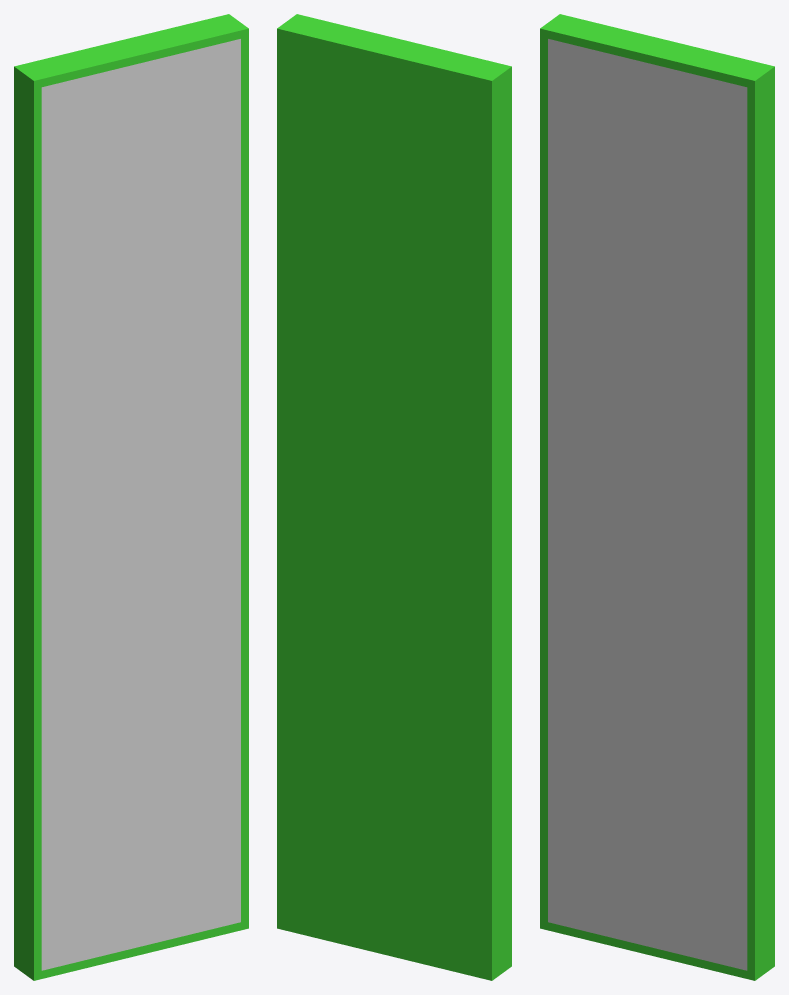
Rendered from Interior_Deco_05.fbx.
The picture shows the model from 3 angles, left to right: view 1: azimuth 30°, elevation 25°; view 2: azimuth 150°, elevation 25°; view 3: azimuth 330°, elevation 25°; orthographic projection.
Parts seen in each view (by area): view 1: Interior_Deco_05_A, Interior_Deco_05; view 2: Interior_Deco_05; view 3: Interior_Deco_05_A, Interior_Deco_05.
Part boxes in pixels (x1=…): Interior_Deco_05_A: x1=41, y1=39, x2=240, y2=970; Interior_Deco_05: x1=14, y1=14, x2=248, y2=980; Interior_Deco_05: x1=277, y1=14, x2=511, y2=980; Interior_Deco_05_A: x1=548, y1=39, x2=747, y2=970; Interior_Deco_05: x1=540, y1=14, x2=774, y2=980.
Bounding box in the file's own units: 114 × 457 × 18.29.
